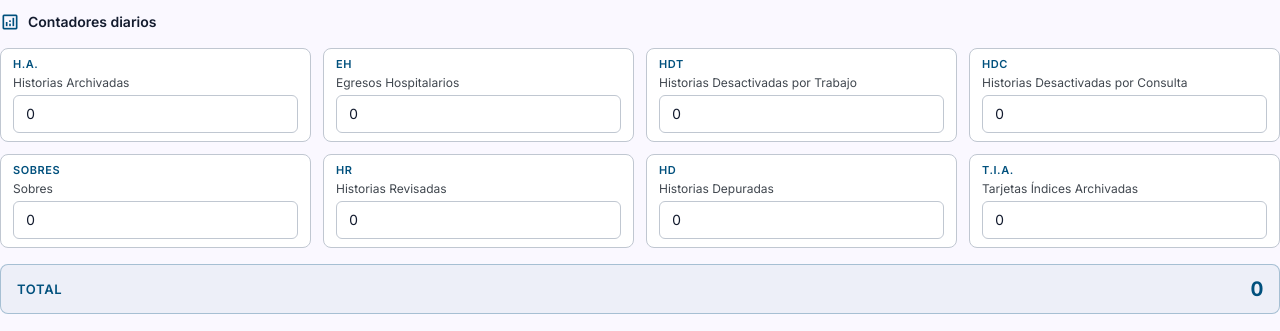
Test: ContadoresLibro › no mantiene decimales en el modelo
Step 1. Replace the text in the number field labelled "Historias Revisadas" with "2.7" → (478,220), box [336,201,621,239]
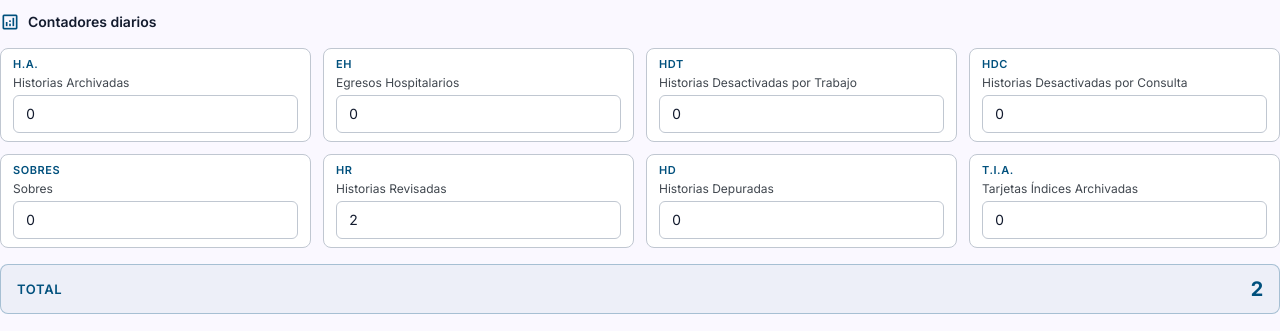
Result: the number field labelled "Historias Revisadas" holds "2" at [336,201,621,239]
